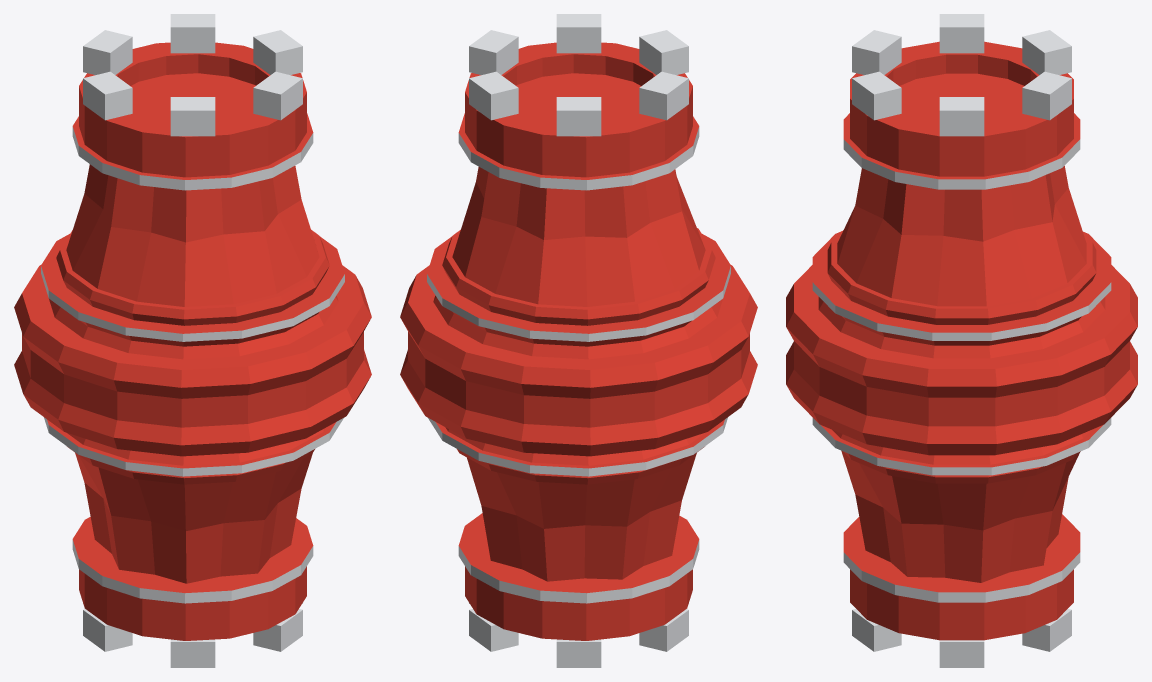
Rendered from rook-deco.glb.
3 renders of one model, left to right at view 1: azimuth 30°, elevation 25°; view 2: azimuth 150°, elevation 25°; view 3: azimuth 270°, elevation 25°, orthographic.
Parts seen in each view (by area): view 1: rook-deco; view 2: rook-deco; view 3: rook-deco.
Boxes of the visible parts, x1,y1,x2,y2 form: rook-deco: [14, 14, 371, 667]; rook-deco: [400, 14, 757, 667]; rook-deco: [786, 14, 1137, 667].
Size of the model in its own units: 0.4766 by 0.8333 by 0.4766.
